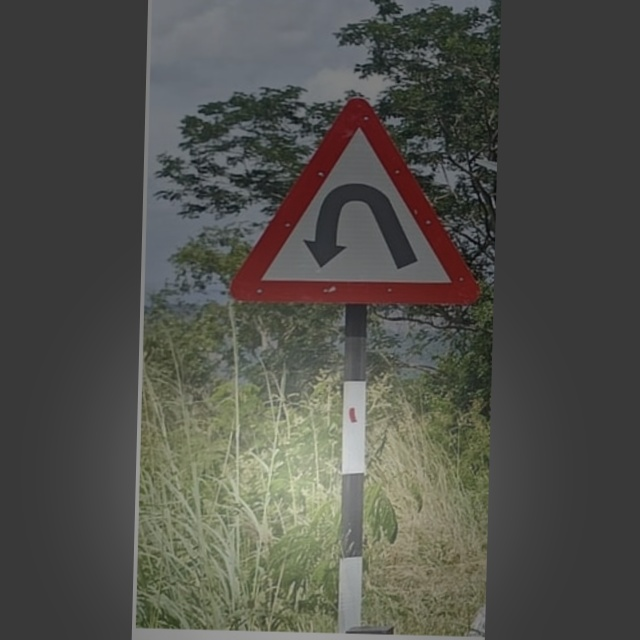Left_Hair_Pin_Bend: (235, 90, 481, 313)
